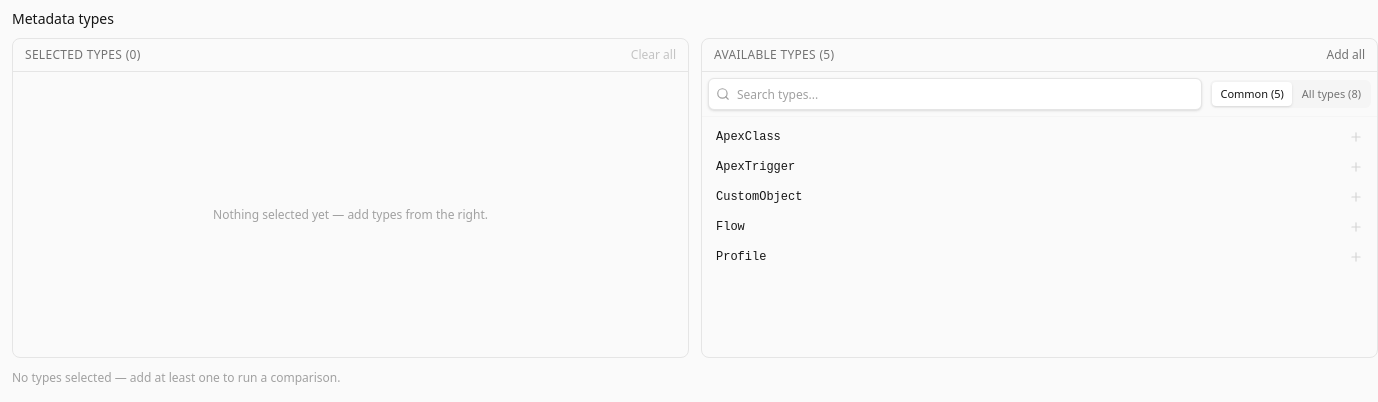
TypeFilterPanel › switching to "All types" reveals the full registry in Available
Click the button "All types (8)" at point(1331, 94), box left=1294, top=82, right=1369, bottom=106
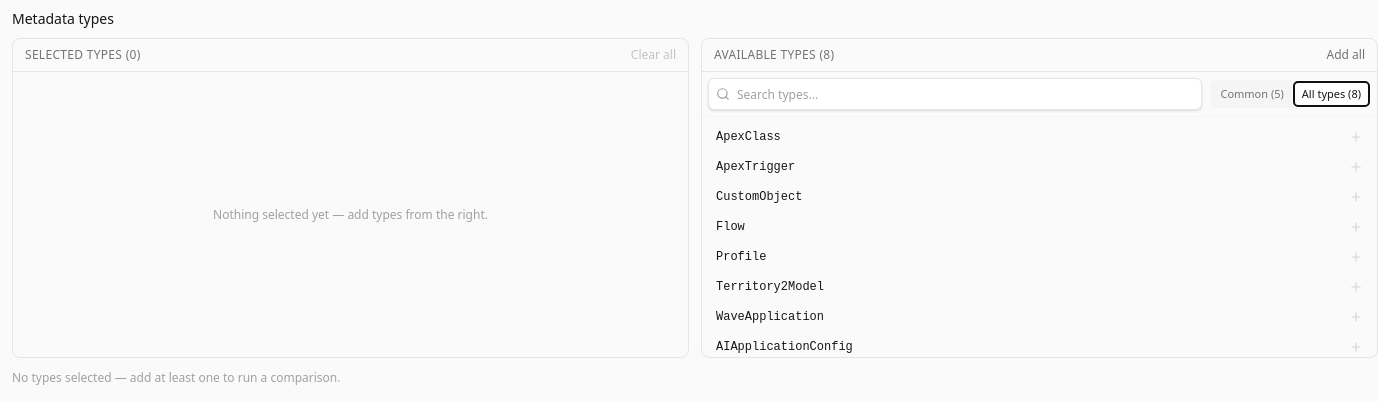
Now the text "Territory2Model" is shown, box left=716, top=279, right=824, bottom=295
